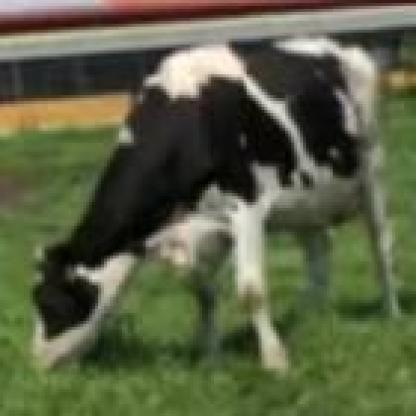cow: (27, 37, 398, 373)
